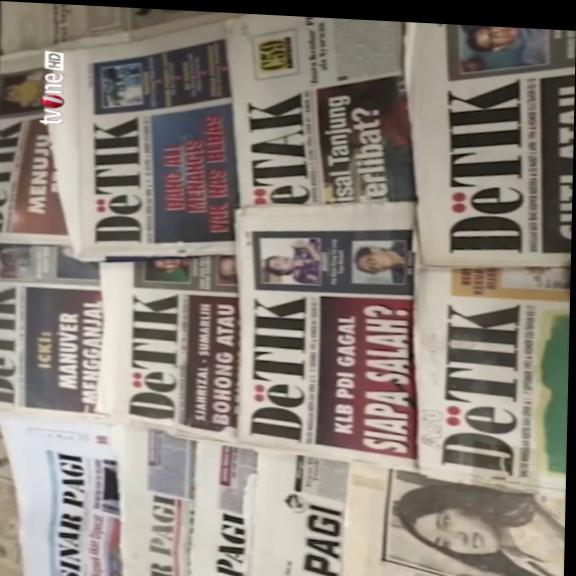Kertas: (226, 202, 425, 468), (48, 11, 250, 267), (400, 25, 573, 276), (221, 15, 417, 222), (407, 271, 569, 495)
